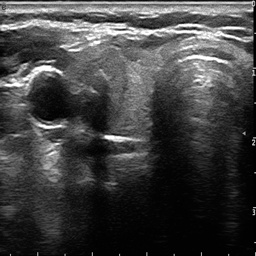mass: (74, 44, 128, 132)
